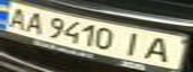0: (93, 25, 118, 52)
1: (78, 21, 96, 47)
4: (60, 19, 81, 44)
9: (42, 15, 66, 39)
A: (139, 34, 184, 64), (18, 9, 48, 35), (0, 4, 30, 29)
I: (118, 29, 151, 57)
